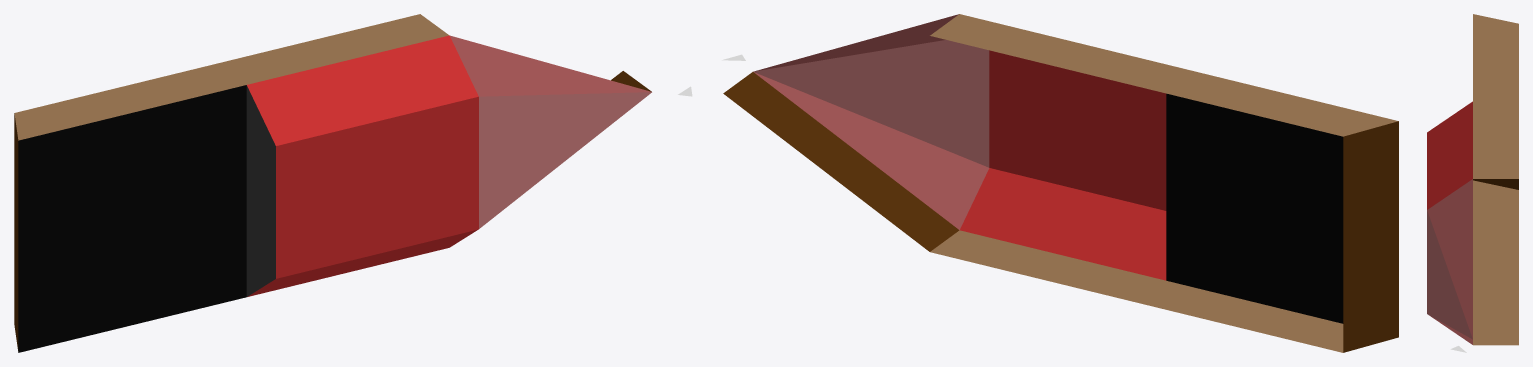
Rendered from objs1_29.obj.
The picture shows the model from 3 angles, left to right: view 1: azimuth 30°, elevation 25°; view 2: azimuth 150°, elevation 25°; view 3: azimuth 270°, elevation 25°; orthographic projection. The views are drawn at different scales.
Visible parts, largest first — view 1: objs1_29; view 2: objs1_29; view 3: objs1_29.
Part boxes in pixels (x1=…): objs1_29: x1=14, y1=14, x2=692, y2=352; objs1_29: x1=722, y1=14, x2=1398, y2=352; objs1_29: x1=1427, y1=14, x2=1518, y2=352.
Size of the model in its own units: 0.422 by 0.128 by 0.064.
